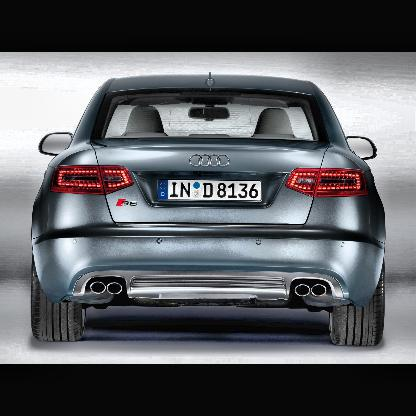Audi S6 Sedan 2011: (29, 73, 390, 349)
